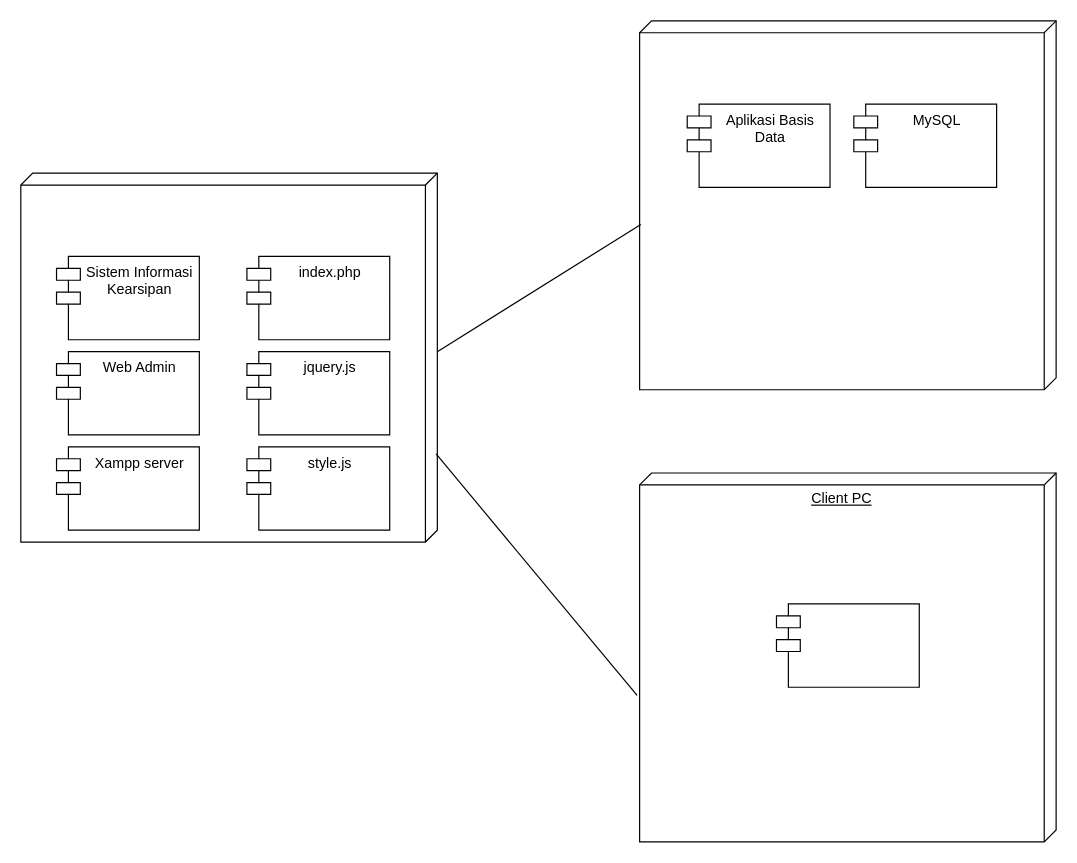
This 1077x863 diagram has some shape labels left out. The box of each missing label's shape, as (x1, y1, x2, y2) in pixels:
Browser: (775, 603, 919, 687)
Database Server: (638, 20, 1056, 390)
Web Server: (20, 172, 437, 542)
